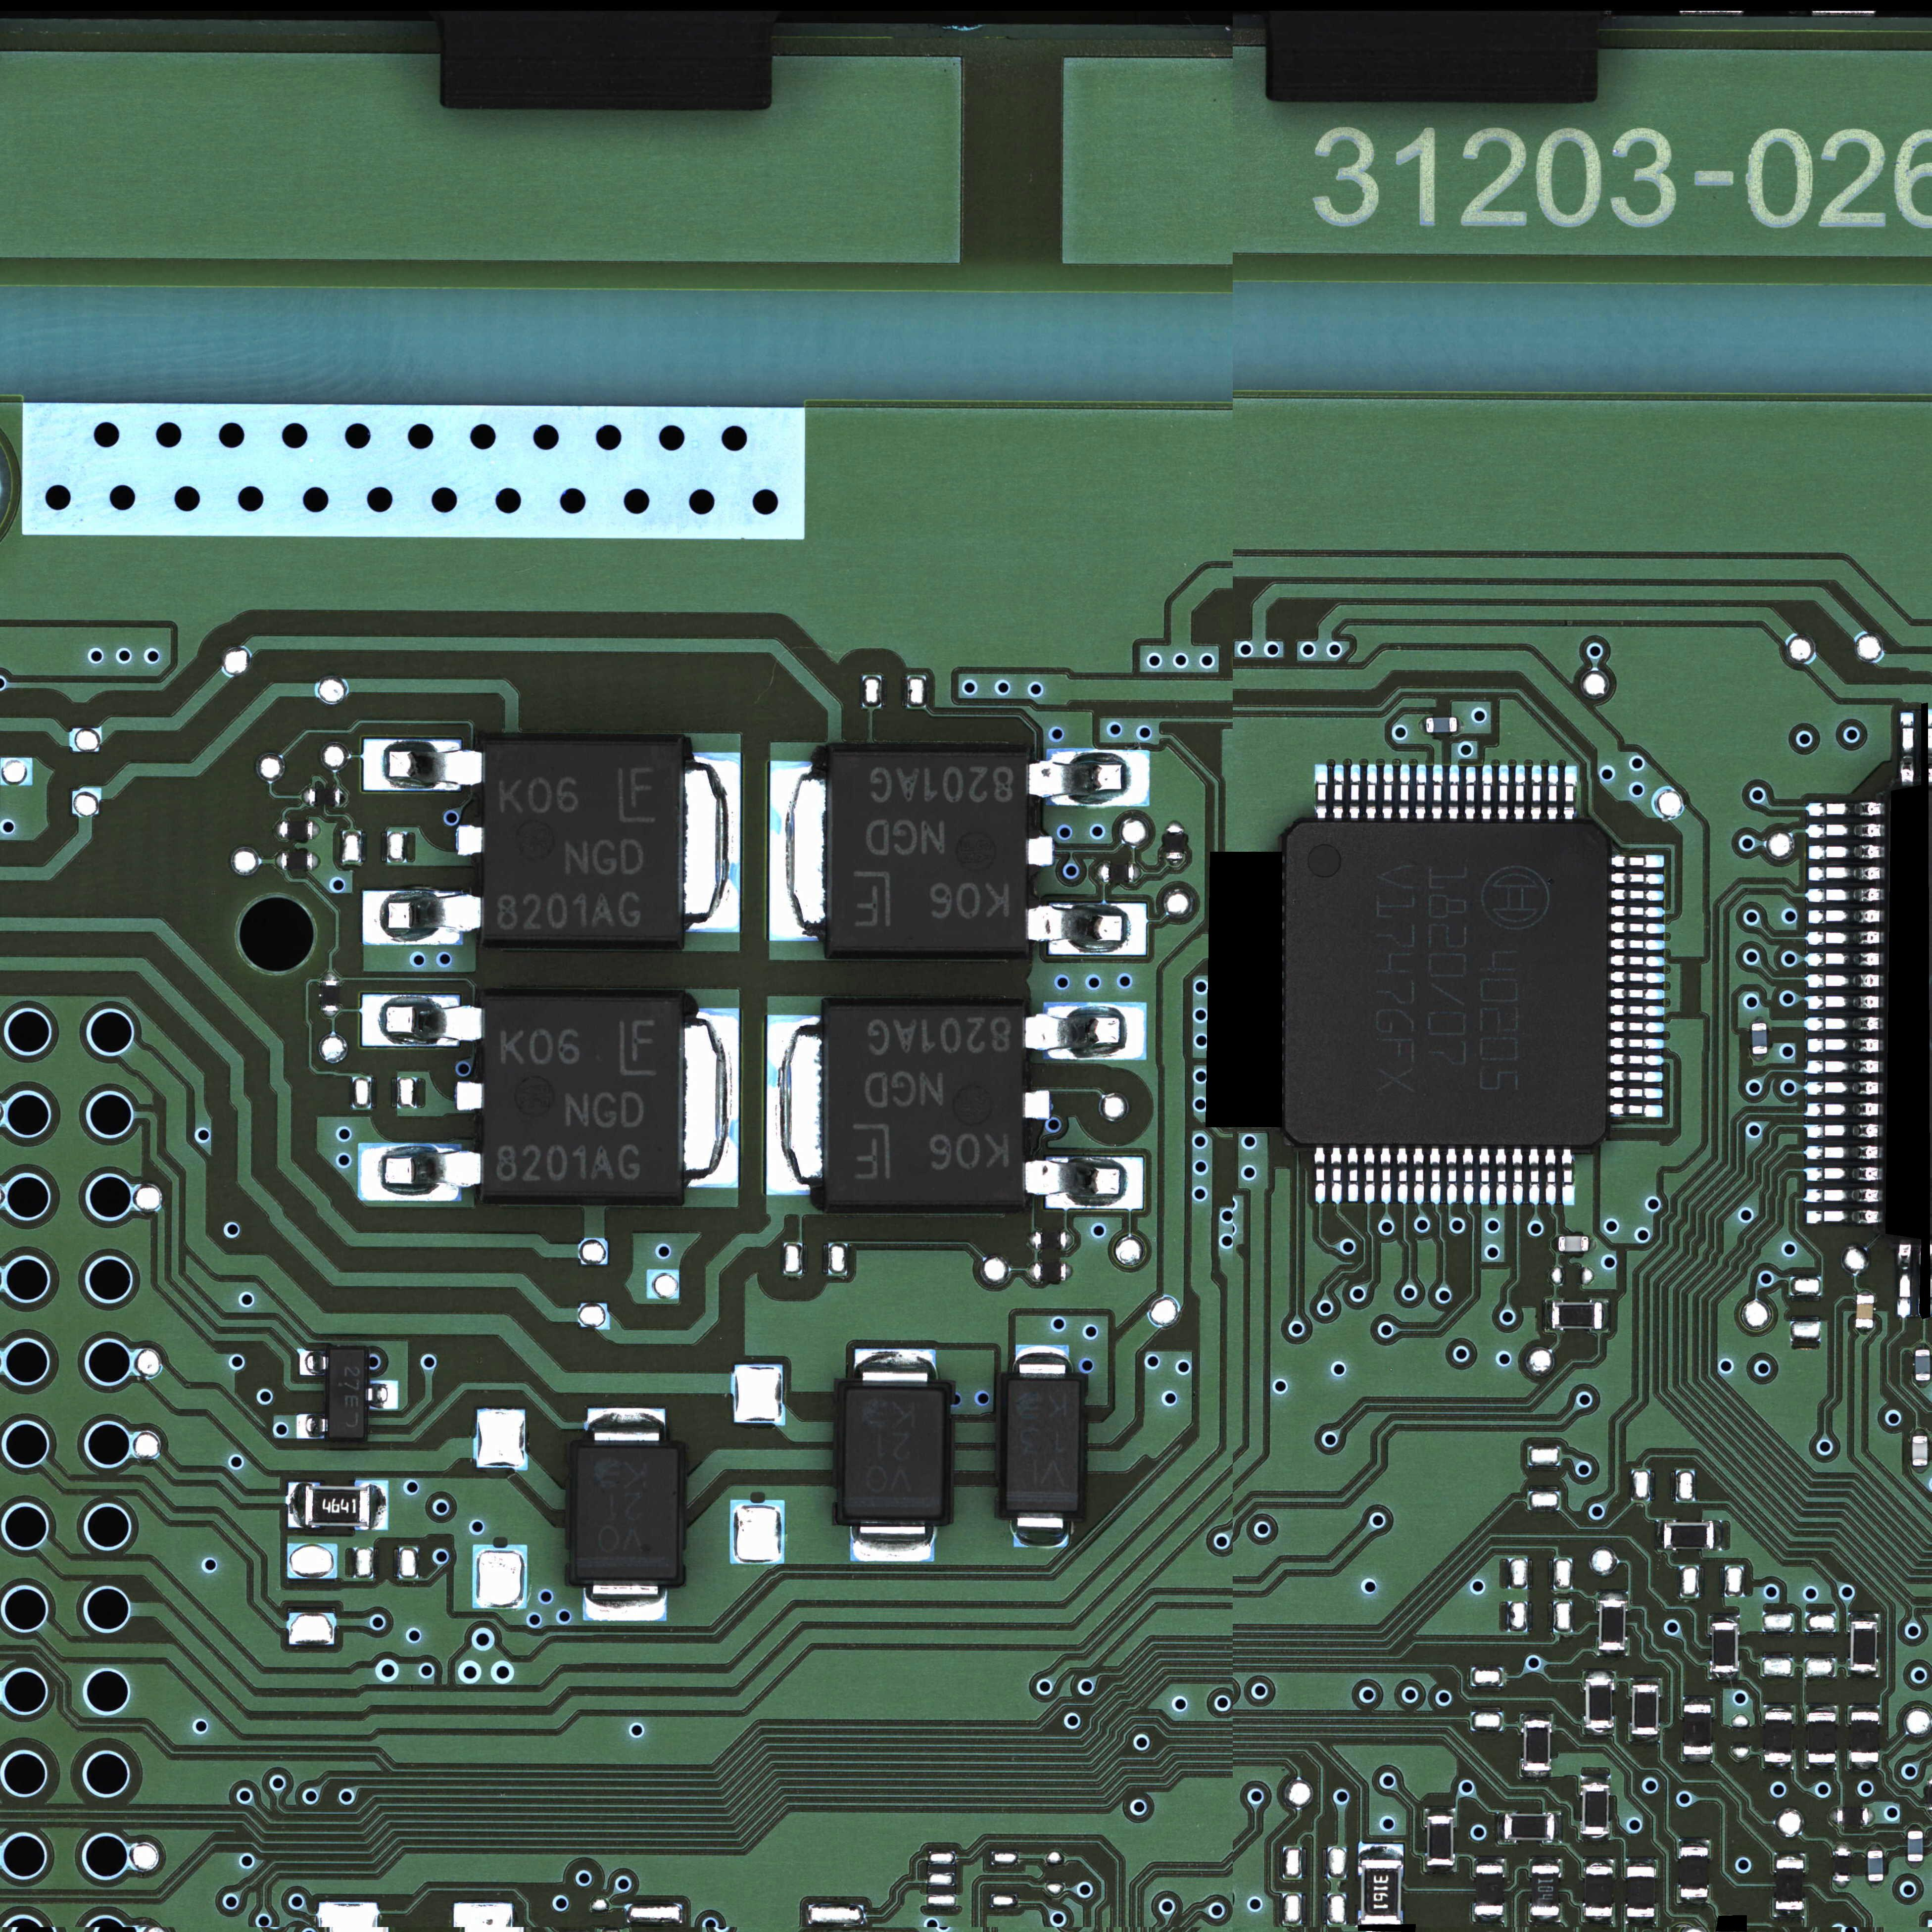Package: (1284, 821, 1607, 1146), (828, 752, 1025, 951), (825, 1009, 1022, 1206), (485, 745, 678, 942), (485, 1000, 679, 1194), (577, 1448, 678, 1579), (845, 1389, 942, 1517), (1007, 1380, 1079, 1512), (329, 1349, 364, 1438), (305, 1486, 370, 1527), (1362, 1860, 1402, 1925), (1531, 1865, 1560, 1916), (1807, 1712, 1836, 1763), (1475, 1865, 1504, 1915), (1585, 1866, 1613, 1917), (1850, 1712, 1879, 1762), (1681, 1847, 1708, 1898), (1627, 1867, 1655, 1917), (1684, 1705, 1712, 1754), (1776, 1860, 1803, 1909), (1524, 1720, 1551, 1770), (1765, 1712, 1792, 1762), (1712, 1622, 1739, 1672), (1504, 1815, 1554, 1840), (1586, 1679, 1612, 1729), (1583, 1785, 1608, 1835), (1633, 1684, 1658, 1734), (1600, 1599, 1626, 1648), (1552, 1303, 1602, 1328), (1664, 1523, 1714, 1548), (1428, 1817, 1453, 1866), (1851, 1621, 1877, 1671), (1357, 1843, 1403, 1859), (1856, 1295, 1874, 1328), (280, 821, 313, 839), (1034, 1263, 1066, 1282), (1102, 865, 1134, 882), (1035, 1231, 1067, 1249), (322, 980, 339, 1011), (309, 788, 340, 806), (1834, 1851, 1851, 1882), (282, 852, 313, 869), (1166, 828, 1183, 859), (1837, 1809, 1869, 1825), (1908, 1831, 1924, 1861), (1868, 1850, 1884, 1881), (1912, 1435, 1928, 1466), (1752, 1023, 1767, 1054), (1427, 717, 1457, 732), (1915, 1350, 1930, 1381), (1558, 1236, 1589, 1252)
Solder: (680, 751, 741, 933), (680, 1008, 740, 1188), (769, 759, 827, 942), (767, 1014, 823, 1196), (357, 1142, 486, 1202), (1023, 1002, 1148, 1060), (362, 890, 485, 947), (1025, 751, 1151, 806), (1026, 903, 1148, 956), (362, 994, 486, 1046), (1023, 1156, 1144, 1209), (363, 739, 485, 791), (850, 1517, 935, 1562), (583, 1579, 667, 1621), (854, 1349, 937, 1389), (586, 1408, 665, 1447), (1014, 1512, 1069, 1548), (1015, 1344, 1069, 1380), (1804, 1037, 1884, 1056), (1895, 1243, 1915, 1317), (1805, 822, 1885, 840), (1805, 845, 1885, 863), (1805, 865, 1886, 882), (1804, 887, 1884, 905), (1804, 907, 1885, 925), (1804, 929, 1885, 947), (1805, 951, 1885, 969), (1805, 972, 1885, 990), (1805, 995, 1885, 1013), (1805, 1016, 1885, 1034), (1804, 1124, 1885, 1142), (1803, 1166, 1884, 1184), (1804, 1187, 1884, 1205), (1804, 1208, 1884, 1226), (1803, 1145, 1884, 1162), (1804, 800, 1884, 818), (1804, 1059, 1884, 1076), (1804, 1080, 1884, 1098), (1804, 1102, 1884, 1120), (1899, 711, 1917, 786), (365, 1381, 398, 1409), (1023, 1088, 1053, 1121), (370, 1480, 388, 1531), (453, 824, 482, 857), (455, 1081, 483, 1113), (1026, 835, 1055, 867), (296, 1413, 328, 1439), (1562, 1148, 1576, 1207), (288, 1482, 305, 1528), (299, 1351, 328, 1376), (1314, 764, 1327, 821), (1609, 1104, 1663, 1117), (1564, 765, 1577, 821), (1609, 855, 1664, 868), (1545, 1148, 1556, 1207), (1608, 1021, 1666, 1033), (1608, 972, 1666, 984), (1609, 889, 1664, 901), (1608, 1005, 1665, 1017), (1609, 922, 1666, 934), (1528, 1148, 1540, 1207), (1462, 1147, 1474, 1206), (1496, 1148, 1507, 1207), (1512, 1148, 1523, 1207), (1609, 872, 1665, 884), (1363, 1147, 1375, 1205), (1432, 763, 1443, 821), (1608, 939, 1666, 950), (1413, 1148, 1425, 1206), (1608, 1071, 1663, 1083), (1349, 764, 1360, 821), (1608, 1087, 1663, 1099), (1331, 1147, 1342, 1204), (1609, 988, 1665, 1000), (1608, 1055, 1664, 1066), (1399, 764, 1410, 820), (1446, 1147, 1457, 1206), (1449, 764, 1460, 820), (1479, 1148, 1490, 1207), (1465, 767, 1477, 820), (1430, 1148, 1441, 1206), (1380, 1147, 1391, 1205), (1610, 906, 1665, 918), (1347, 1147, 1358, 1202), (1608, 956, 1666, 966), (1608, 1038, 1665, 1049), (1350, 764, 1360, 821), (1333, 764, 1344, 821), (1514, 765, 1525, 821), (1531, 765, 1542, 821), (1482, 764, 1493, 821), (1498, 765, 1509, 821), (1397, 1147, 1407, 1205), (1366, 764, 1377, 821), (1416, 764, 1426, 821), (1383, 764, 1393, 821), (1547, 765, 1558, 821), (1315, 1147, 1325, 1205), (1472, 1915, 1505, 1924), (1624, 1917, 1658, 1926), (1584, 1670, 1615, 1679), (1772, 1910, 1806, 1918), (1849, 1762, 1881, 1771), (1714, 1520, 1723, 1550), (1528, 1916, 1562, 1924), (1544, 1299, 1552, 1331), (1709, 1614, 1740, 1622), (1597, 1591, 1628, 1599), (1848, 1613, 1879, 1621), (1655, 1519, 1663, 1550), (1583, 1917, 1615, 1925), (1580, 1775, 1610, 1784), (1805, 1704, 1837, 1712), (1805, 1763, 1837, 1771), (1425, 1807, 1455, 1816), (1709, 1672, 1740, 1680), (1847, 1671, 1879, 1679), (1682, 1755, 1713, 1763), (1775, 1852, 1805, 1860), (1679, 1838, 1709, 1846), (1763, 1762, 1793, 1770), (1424, 1866, 1456, 1874), (1521, 1713, 1552, 1720), (1530, 1857, 1561, 1865), (1849, 1704, 1881, 1712), (1630, 1735, 1661, 1742), (1602, 1300, 1609, 1331), (1584, 1858, 1614, 1866), (1519, 1771, 1552, 1778), (1474, 1857, 1504, 1865), (1579, 1835, 1611, 1841), (1677, 1898, 1709, 1905), (1626, 1859, 1655, 1866), (1683, 1696, 1713, 1704), (1764, 1704, 1793, 1712), (1497, 1812, 1504, 1843), (1596, 1650, 1630, 1656), (1554, 1812, 1561, 1843), (1629, 1678, 1661, 1684), (1585, 1729, 1614, 1736), (1166, 820, 1183, 828), (1829, 1808, 1837, 1824), (322, 972, 338, 980), (1835, 1843, 1850, 1851), (1134, 865, 1142, 882), (1418, 717, 1426, 732), (1856, 1328, 1874, 1335), (1067, 1231, 1073, 1250), (1066, 1263, 1073, 1279), (313, 853, 320, 869), (1551, 1236, 1558, 1252), (1751, 1054, 1767, 1062), (1834, 1882, 1851, 1888), (1166, 859, 1184, 866), (1868, 1881, 1884, 1888), (1457, 717, 1465, 732), (274, 822, 281, 838), (275, 852, 282, 869), (1028, 1263, 1035, 1281), (313, 822, 320, 838), (1096, 865, 1102, 881), (1589, 1236, 1596, 1252), (1908, 1862, 1923, 1869), (1752, 1016, 1767, 1023), (1719, 1917, 1735, 1924), (1907, 1824, 1923, 1831), (1912, 1465, 1929, 1471), (1868, 1843, 1883, 1850), (1912, 1429, 1928, 1435), (323, 1011, 339, 1017), (1869, 1809, 1875, 1824), (303, 789, 309, 805), (1029, 1233, 1035, 1249), (340, 789, 346, 805), (1856, 1290, 1874, 1294), (1915, 1344, 1930, 1349), (1916, 1381, 1929, 1386)
